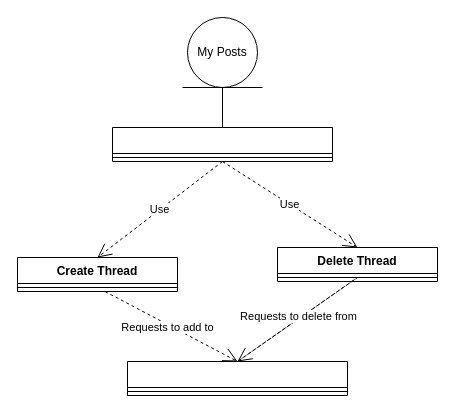
The diagram is 455 pixels wide and 413 high, and some of its shapes have lost their labels. Each missing label, with the centre of its shape:
"back-end (data base)" belongs at (x=237, y=378).
"MyPosts Implementation" belongs at (x=222, y=144).
